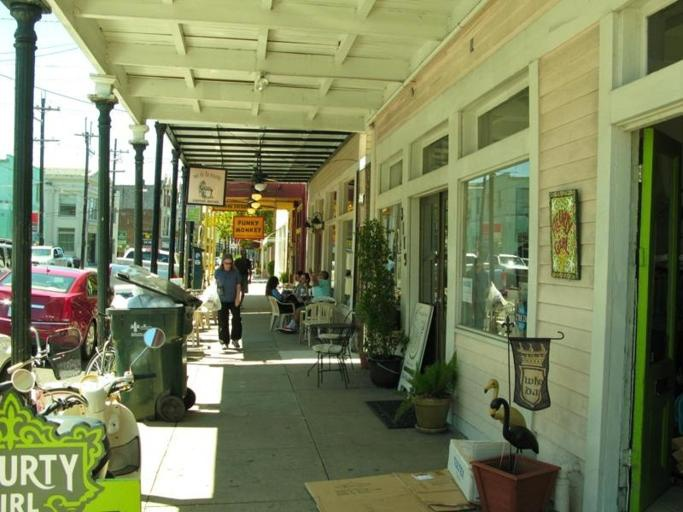non-vehicle: (3, 317, 83, 387), (84, 333, 119, 379)
